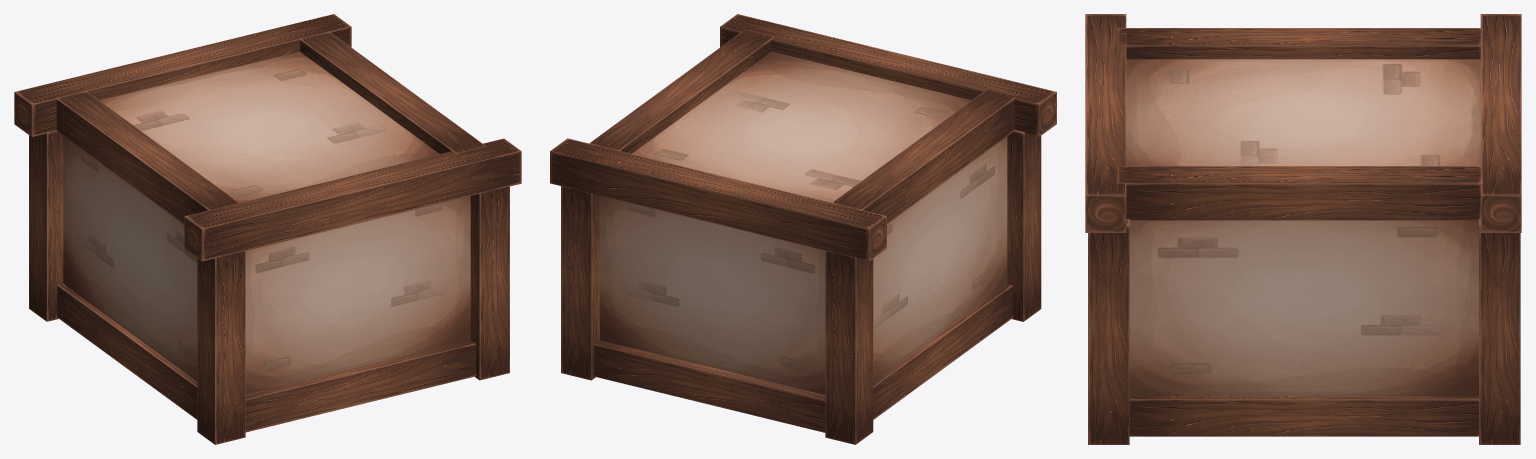
The model's file is houseblock1.fbx.
3 views of the same model, side by side, from view 1: azimuth 30°, elevation 25°; view 2: azimuth 150°, elevation 25°; view 3: azimuth 270°, elevation 25° (orthographic). The views are drawn at different scales.
Visible parts, largest first — view 1: polySurface24; view 2: polySurface24; view 3: polySurface24.
Boxes of the visible parts, x1,y1,x2,y2 form: polySurface24: (14, 14, 521, 444); polySurface24: (550, 14, 1056, 444); polySurface24: (1085, 14, 1521, 444).
Size of the model in its own units: 6.24 by 4.1 by 6.34.
